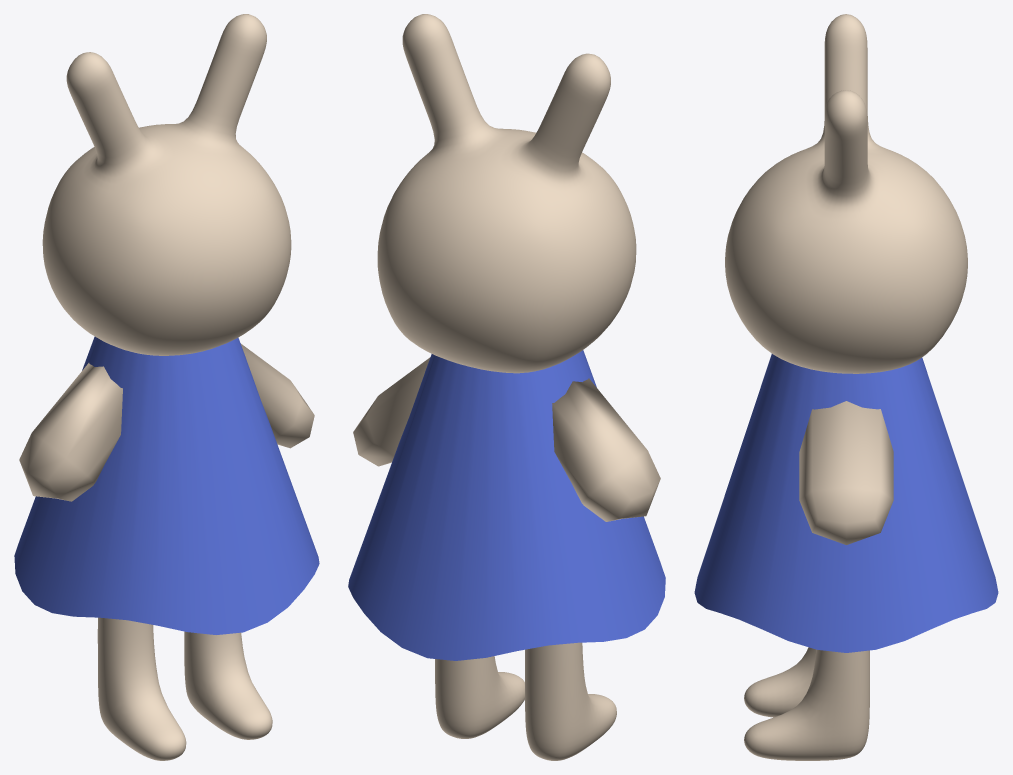
File: rabbit2.fbx
3 views of the same model, side by side, from view 1: azimuth 30°, elevation 25°; view 2: azimuth 150°, elevation 25°; view 3: azimuth 270°, elevation 25° (orthographic). The views are drawn at different scales.
Visible parts, largest first — view 1: Cylinder, Cube, Cube.002, Cube.001; view 2: Cylinder, Cube, Cube.002, Cube.001; view 3: Cylinder, Cube, Cube.002, Cube.001.
Part boxes in pixels (bbox=[...]): Cylinder: bbox=[14, 336, 319, 634]; Cube: bbox=[42, 14, 291, 355]; Cube.002: bbox=[97, 617, 272, 760]; Cube.001: bbox=[19, 343, 314, 501]; Cylinder: bbox=[348, 350, 665, 660]; Cube: bbox=[377, 14, 636, 373]; Cube.002: bbox=[435, 642, 616, 760]; Cube.001: bbox=[353, 357, 660, 521]; Cylinder: bbox=[694, 354, 998, 652]; Cube: bbox=[725, 14, 967, 373]; Cube.002: bbox=[744, 647, 869, 760]; Cube.001: bbox=[799, 401, 893, 544].
Bounding box in the file's own units: 212 × 496 × 200.
